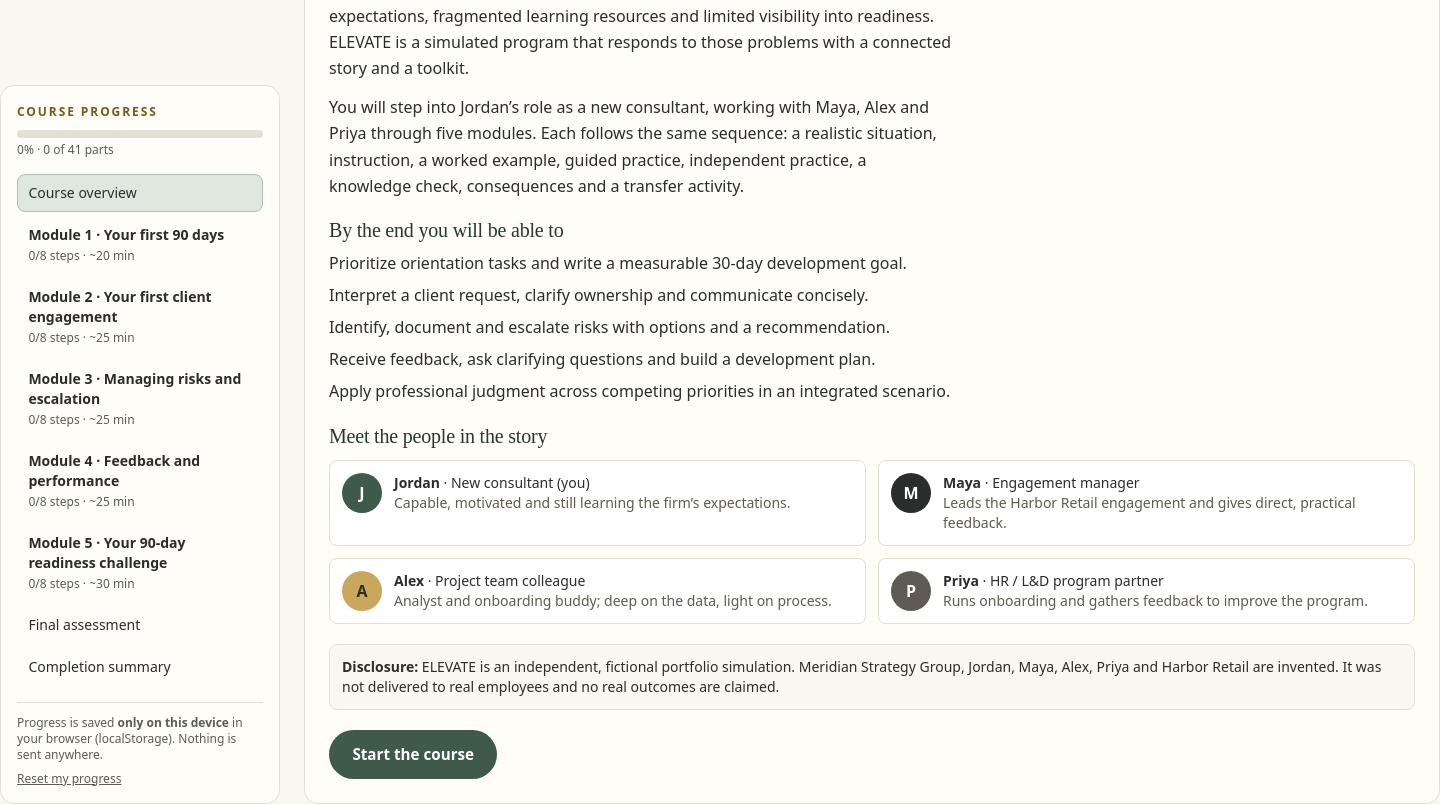
Test case: CoursePlayer › starts the lesson, gates Continue until the step is complete, and saves progress locally
The image size is (1440, 804).
Later steps or results of the test are not shown.
(page scrolled)
Click the button "Start the course": (413, 755) [329,730,498,779]
(page scrolled)
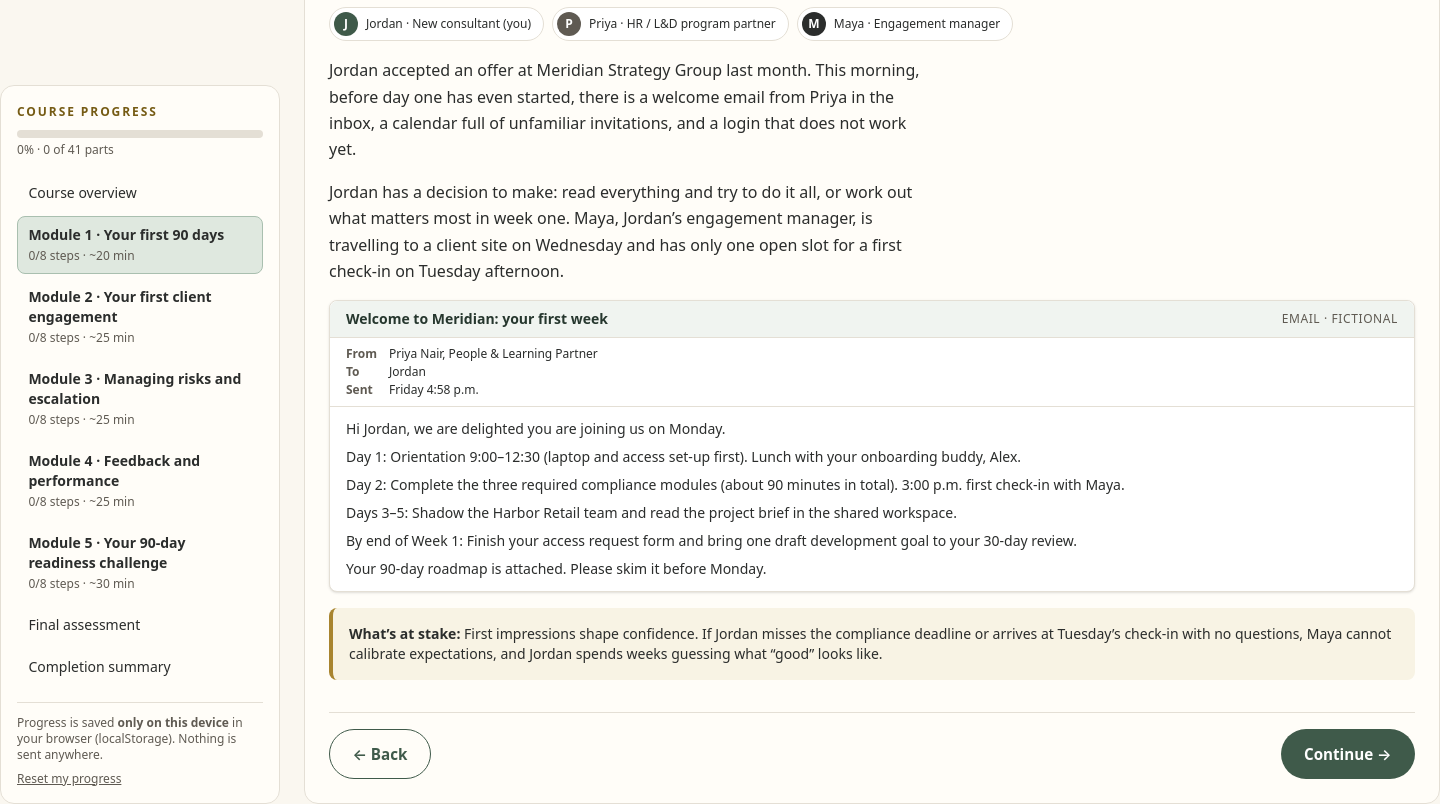
Expected: the button "Continue →" is shown, [1281,729,1415,779]
